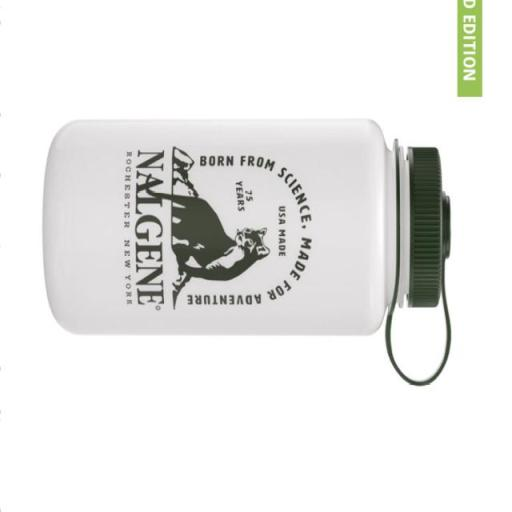bottle: (42, 116, 452, 388)
